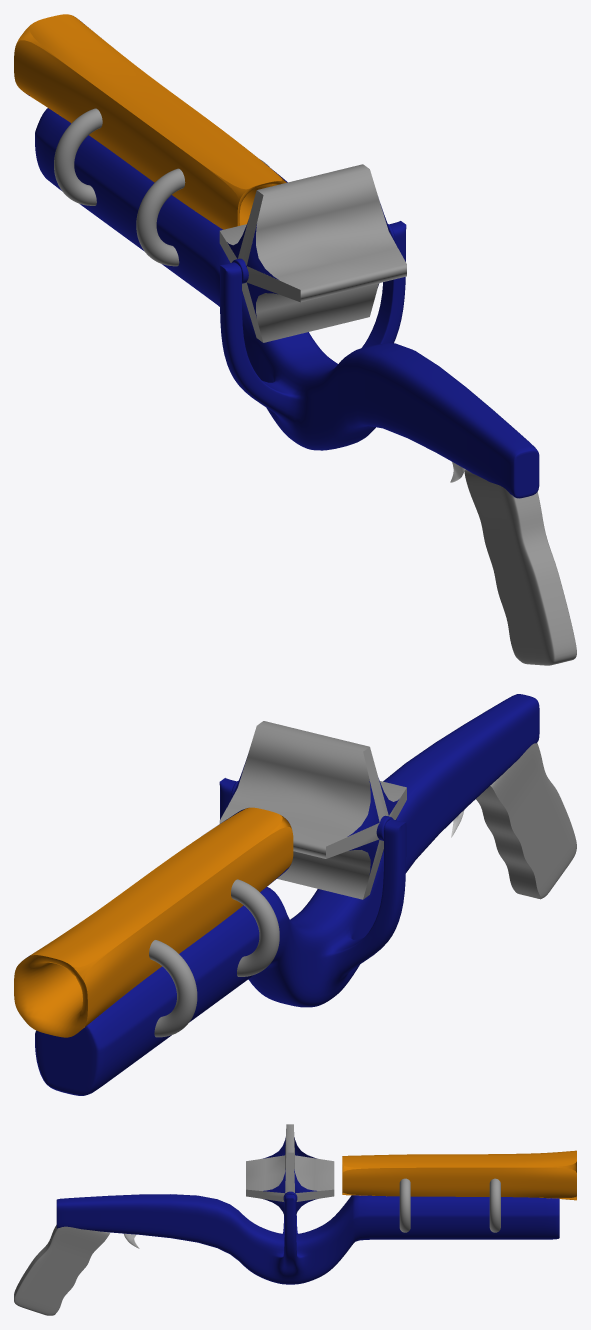
File: BubbleGun.glb
3 views of the same model, one above another, from view 1: azimuth 30°, elevation 25°; view 2: azimuth 150°, elevation 25°; view 3: azimuth 270°, elevation 25° (orthographic). The views are drawn at different scales.
Parts seen in each view (by area): view 1: Cube.001, Cube.006, Cube.005, Cube, Cube.003, Cube.004; view 2: Cube.001, Cube.006, Cube.005, Cube, Cube.004, Cube.003; view 3: Cube.001, Cube.006, Cube, Cube.005, Cube.003, Cube.004.
Boxes of the visible parts, bbox=[...] form: Cube.001: bbox=[27, 21, 539, 498]; Cube.006: bbox=[14, 14, 286, 229]; Cube.005: bbox=[219, 164, 406, 342]; Cube: bbox=[464, 469, 576, 665]; Cube.003: bbox=[136, 159, 269, 266]; Cube.004: bbox=[54, 108, 102, 205]; Cube.001: bbox=[28, 694, 539, 1095]; Cube.006: bbox=[14, 807, 293, 1037]; Cube.005: bbox=[219, 721, 406, 899]; Cube: bbox=[476, 742, 576, 899]; Cube.004: bbox=[149, 940, 197, 1037]; Cube.003: bbox=[231, 879, 279, 976]; Cube.001: bbox=[56, 1137, 559, 1284]; Cube.006: bbox=[342, 1150, 576, 1200]; Cube: bbox=[14, 1225, 110, 1315]; Cube.005: bbox=[246, 1124, 334, 1201]; Cube.003: bbox=[399, 1178, 410, 1232]; Cube.004: bbox=[489, 1178, 500, 1232].
Bounding box in the file's own units: 0.2052 × 0.3453 × 1.01.
